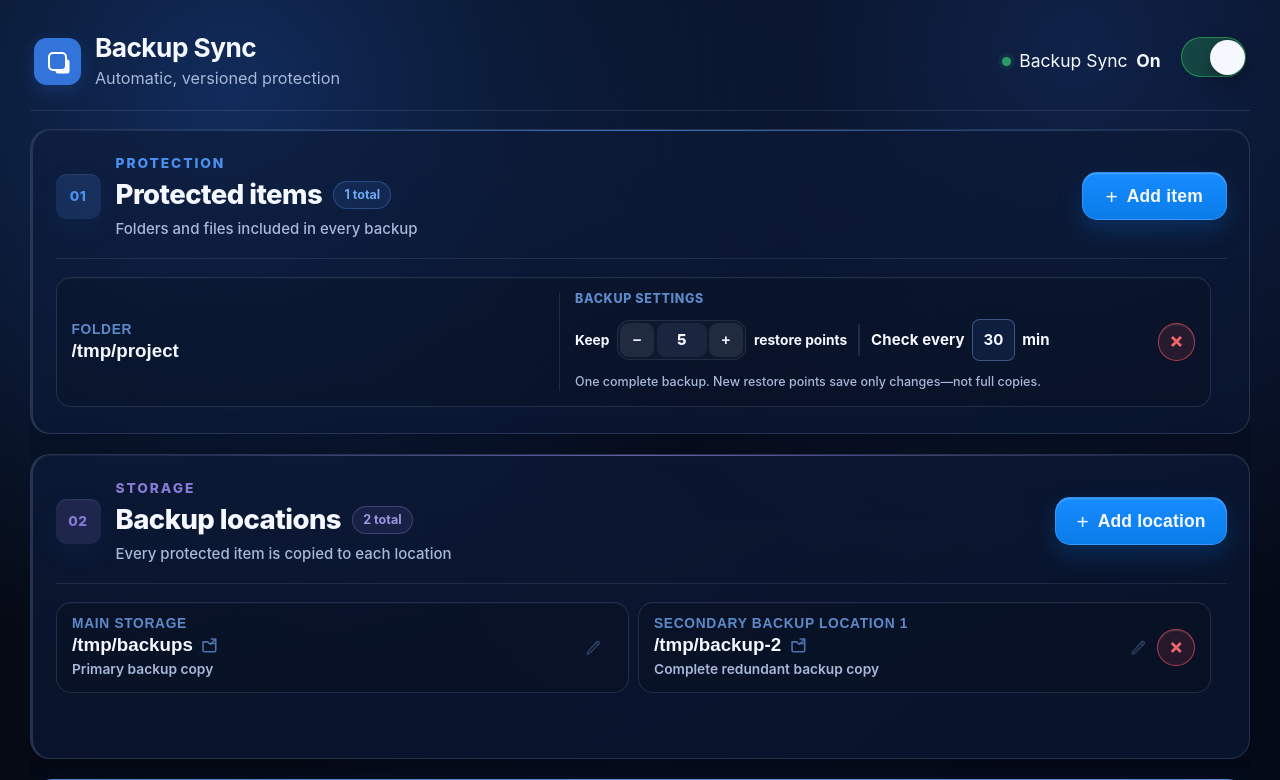
MinimalMain › shows additional destinations with remove controls
Expected: the heading "Backup locations" is shown, [115, 500, 341, 541]
Expected: the text "Main storage" is shown, [71, 616, 186, 631]
What coordinates should you click on to do the following:
click the button named "Remove secondary backup location /tmp/backup-2"
I would click on:
 (1176, 648)
Its box is [1158, 629, 1195, 667].
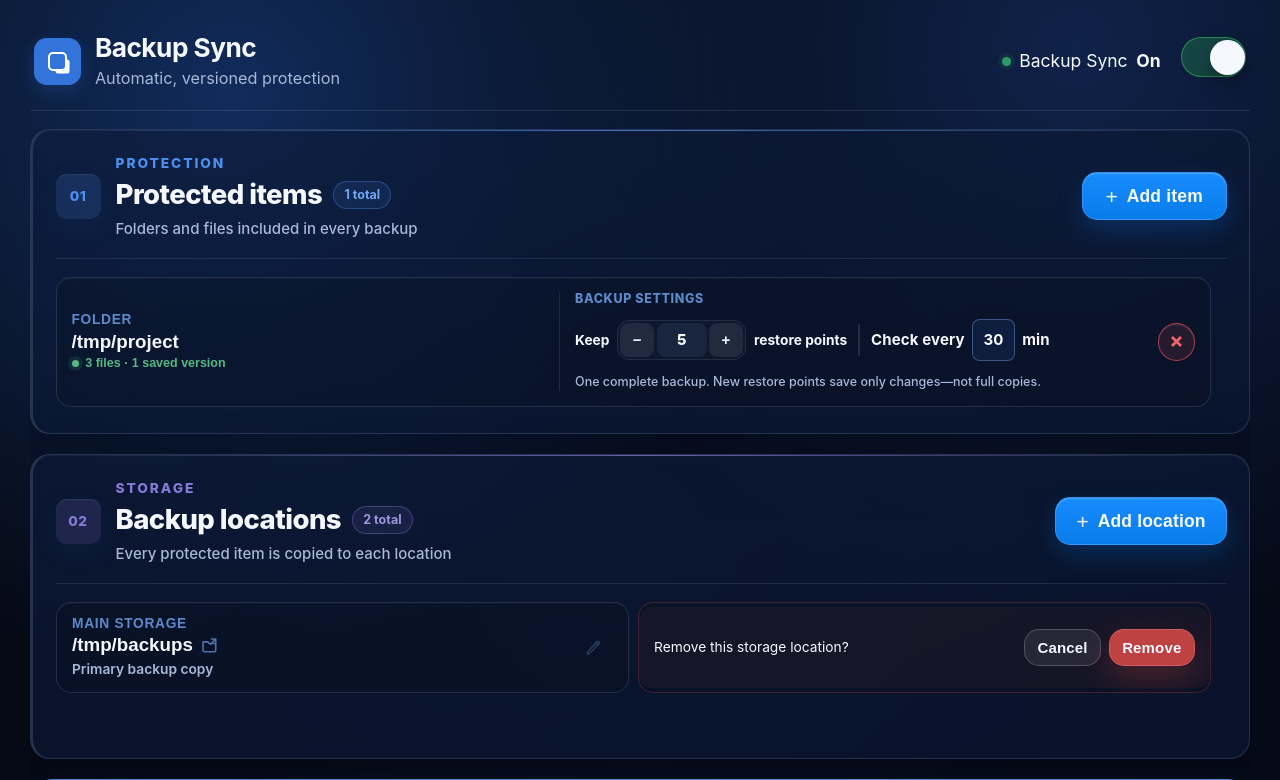
Result: the text "Remove this storage location?" is shown at [654, 638, 849, 658]
Result: the button "/tmp/backup-2" is gone
